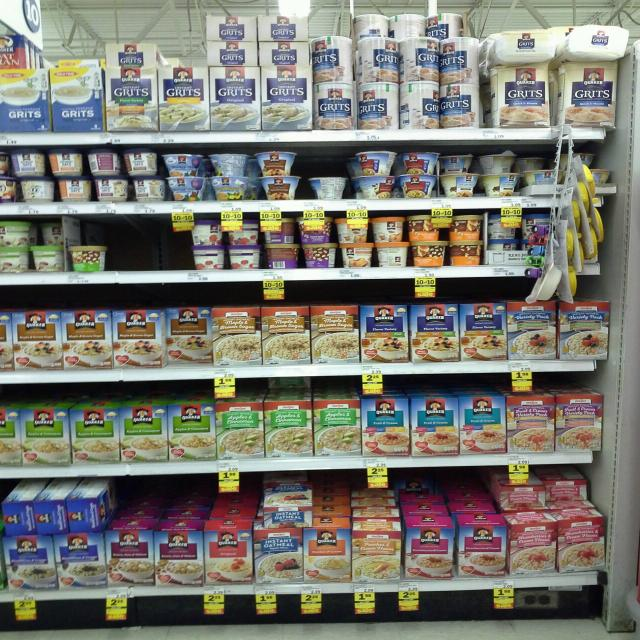unorganised: (355, 11, 468, 39), (162, 310, 213, 368), (443, 150, 551, 172), (310, 37, 354, 85), (355, 38, 400, 82), (440, 37, 480, 84), (400, 81, 439, 128), (441, 82, 479, 130), (398, 38, 439, 81), (105, 43, 157, 70), (206, 150, 251, 179), (309, 173, 351, 201), (83, 150, 124, 178), (357, 174, 402, 199), (356, 148, 397, 174), (264, 239, 298, 268), (20, 176, 57, 201), (33, 216, 64, 244), (264, 218, 295, 243), (580, 150, 607, 168)
